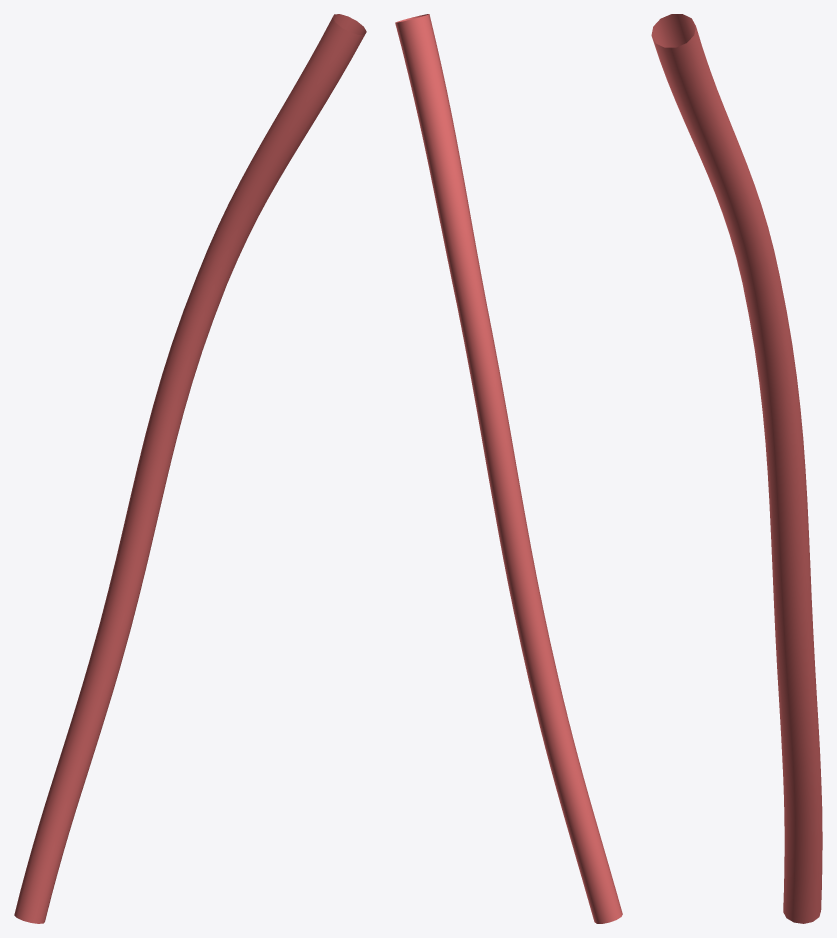
Rendered from Middle_collateral_artery.r_BezierCurve.165.glb.
The picture shows the model from 3 angles, left to right: view 1: azimuth 30°, elevation 25°; view 2: azimuth 150°, elevation 25°; view 3: azimuth 270°, elevation 25°; orthographic projection. The views are drawn at different scales.
Visible parts, largest first — view 1: Middle_collateral_artery.r_BezierCurve.165; view 2: Middle_collateral_artery.r_BezierCurve.165; view 3: Middle_collateral_artery.r_BezierCurve.165.
Boxes of the visible parts, x1,y1,x2,y2 form: Middle_collateral_artery.r_BezierCurve.165: (14, 14, 366, 923); Middle_collateral_artery.r_BezierCurve.165: (395, 14, 622, 923); Middle_collateral_artery.r_BezierCurve.165: (651, 14, 822, 923).
Size of the model in its own units: 0.0266 by 0.076 by 0.0112.
